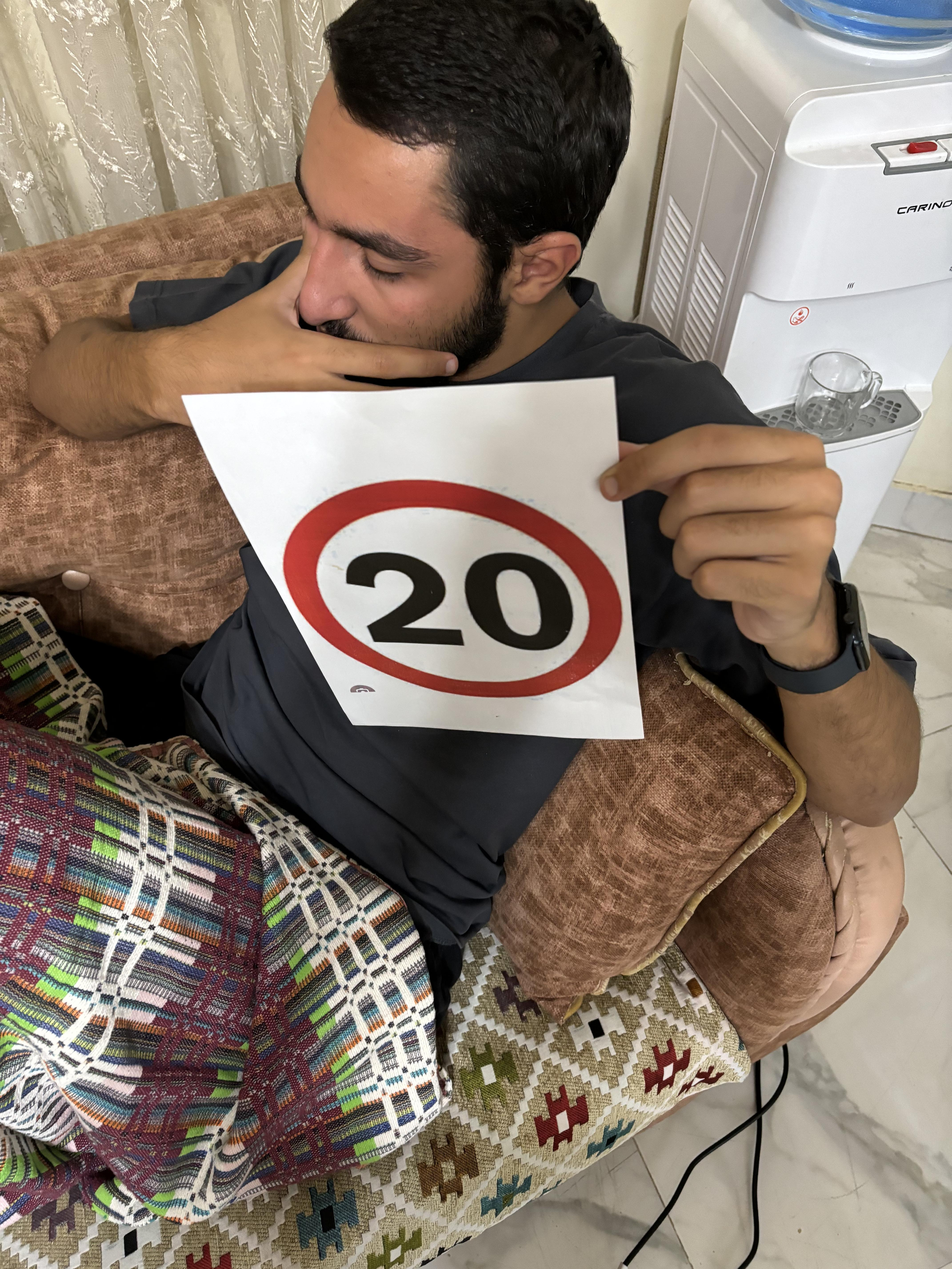20-Speed: (282, 474, 620, 703)
